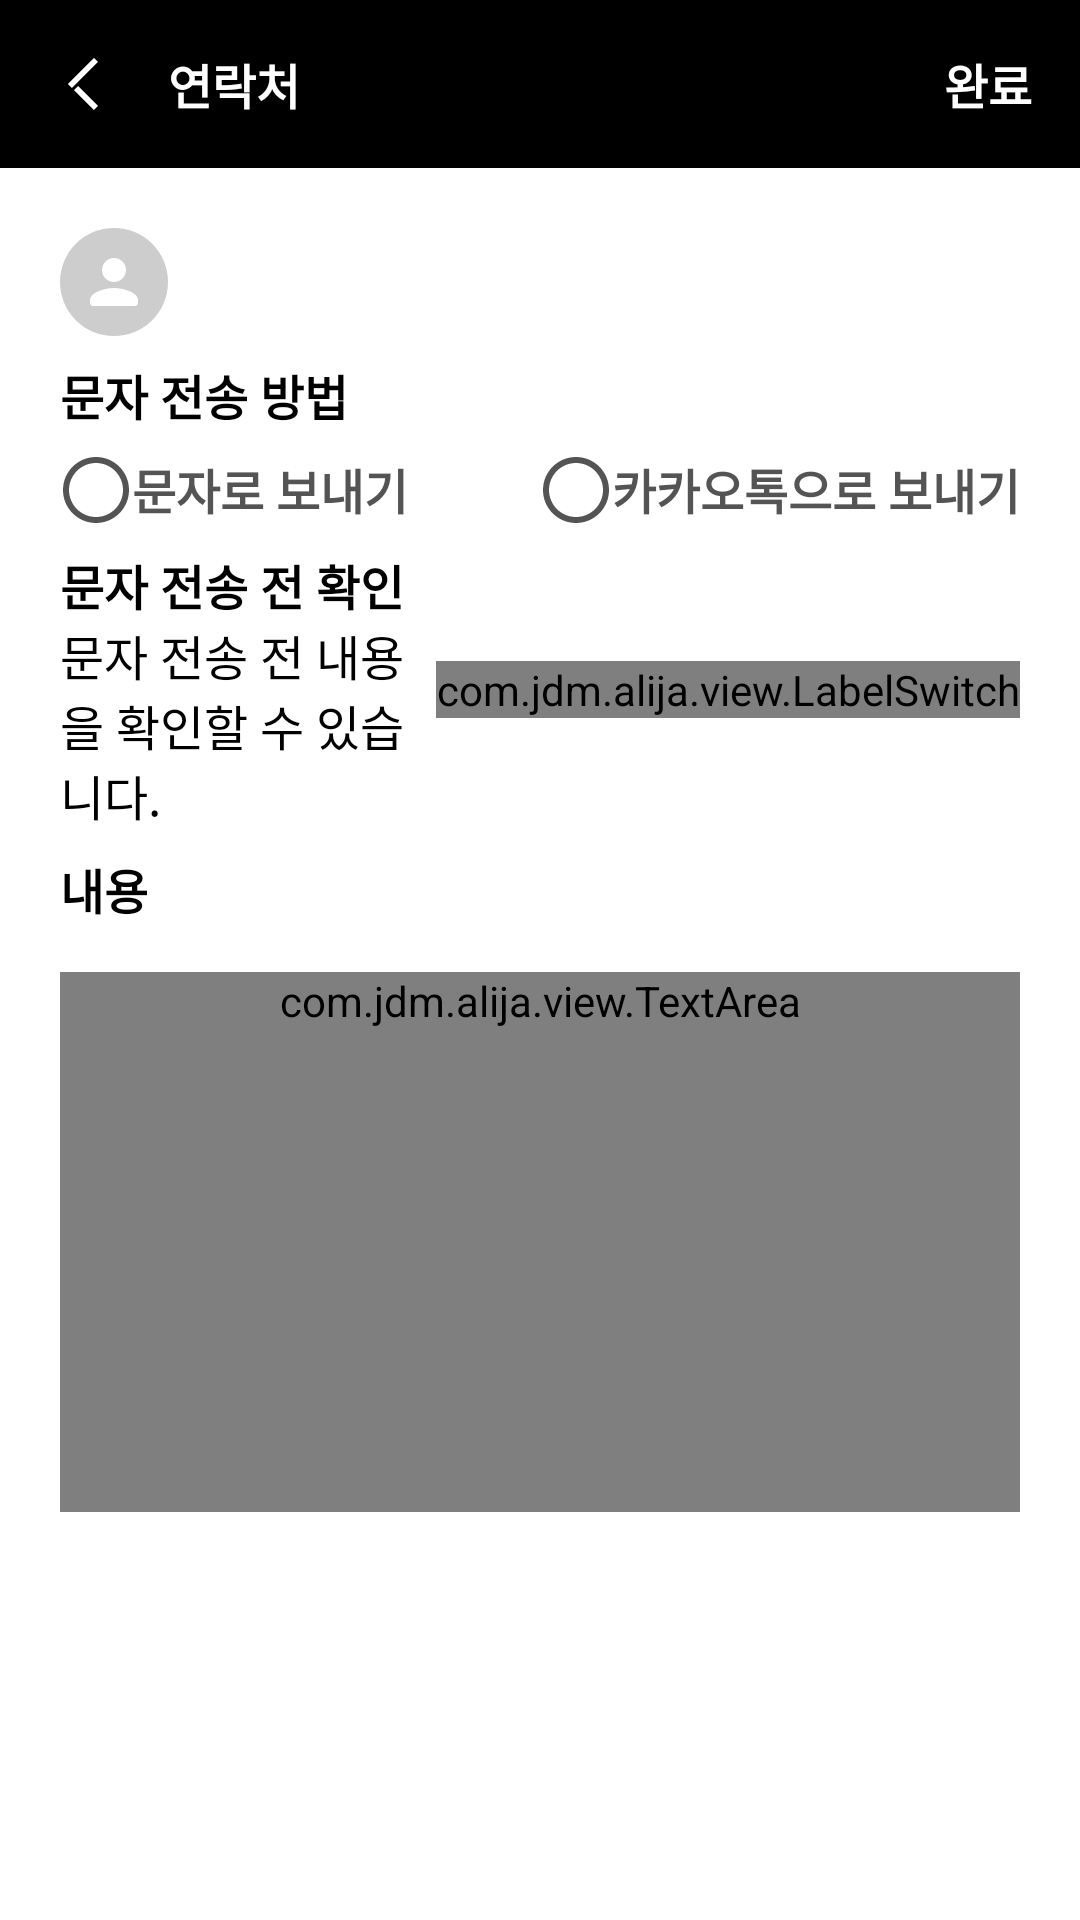

Point at icon controls on the screen. Image size 1080w x 1920h, points as [x,y].
back: [83,84]
sel radio: [96,490], [576,490]
